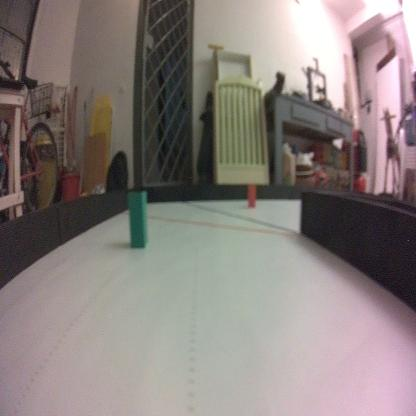green: (126, 186, 149, 250)
red: (247, 183, 256, 208)
